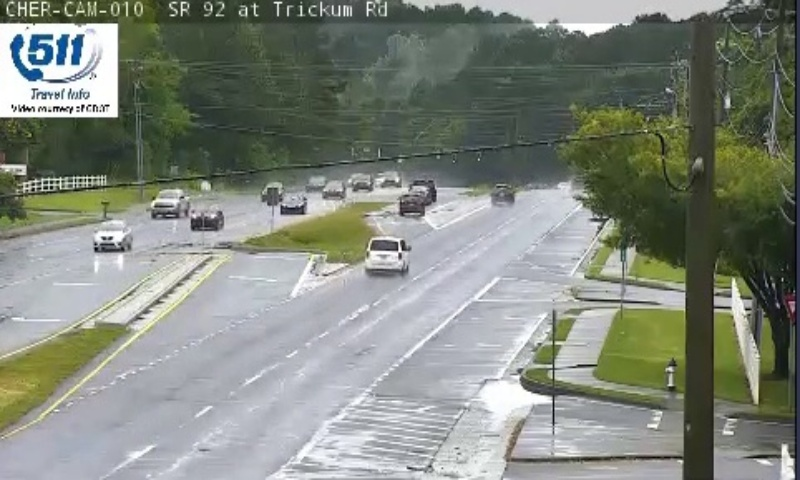car: (365, 236, 408, 268), (398, 191, 424, 214)
